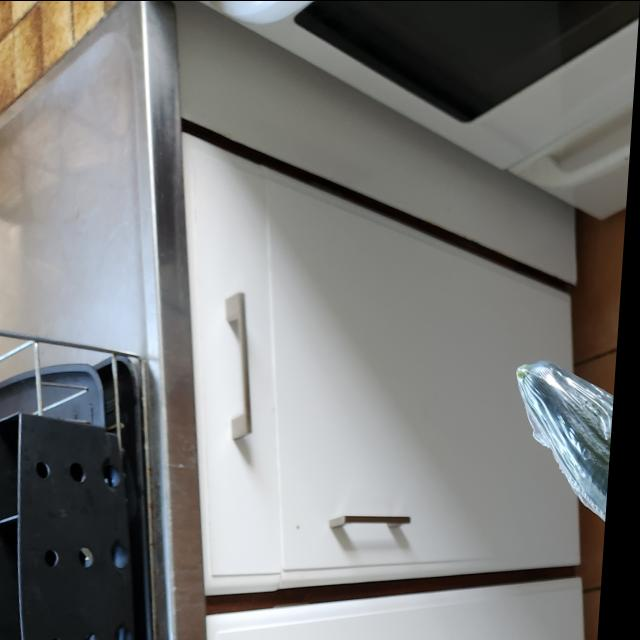cucumber: (507, 358, 621, 640)
